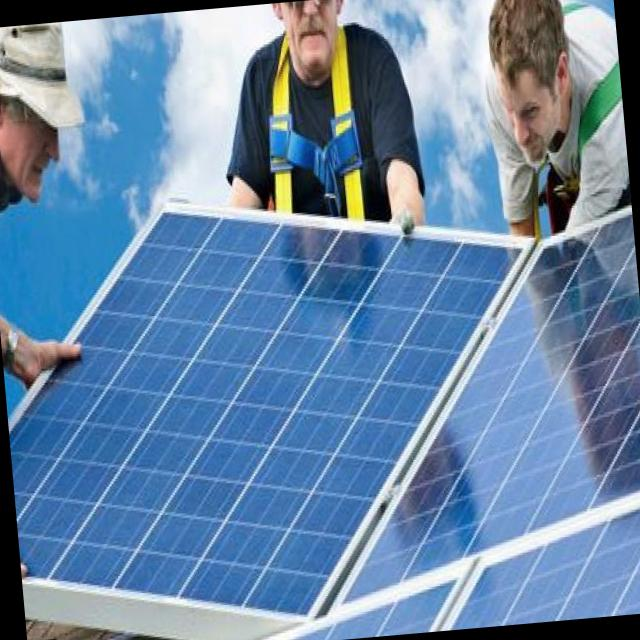no faulty: (9, 212, 520, 612), (343, 219, 640, 606), (454, 513, 640, 629), (286, 580, 451, 640)
